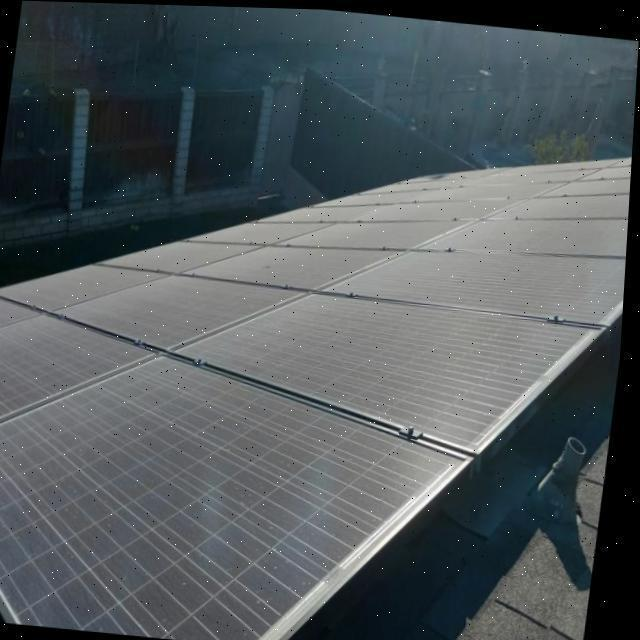Anomaly Solar Panel: (0, 148, 634, 640)
Surface Contaminant: (0, 151, 634, 640)
